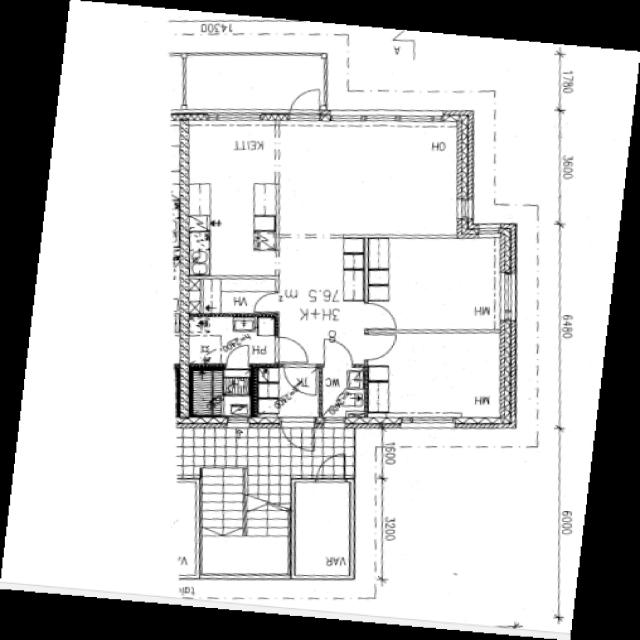door: (282, 418, 314, 457), (291, 84, 320, 121), (283, 364, 315, 394), (275, 337, 308, 362), (317, 455, 345, 483), (324, 339, 352, 367), (364, 336, 395, 360), (364, 304, 395, 328), (227, 344, 249, 370), (231, 275, 254, 299), (253, 292, 280, 312)
